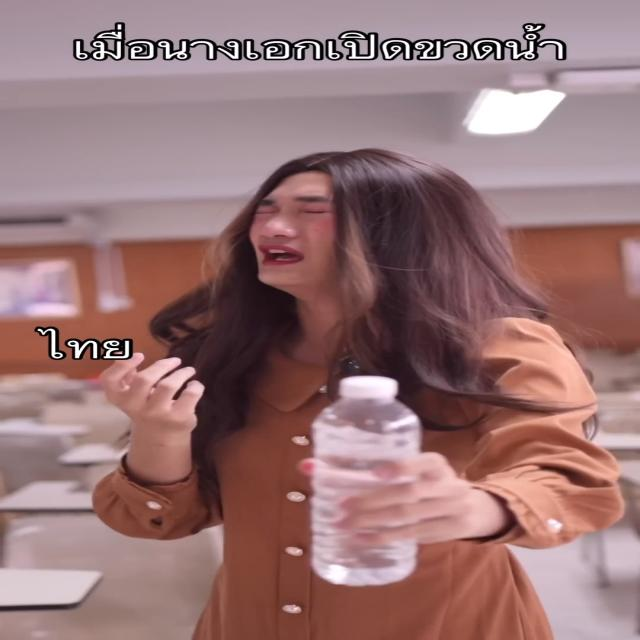bottle: (310, 374, 422, 586)
